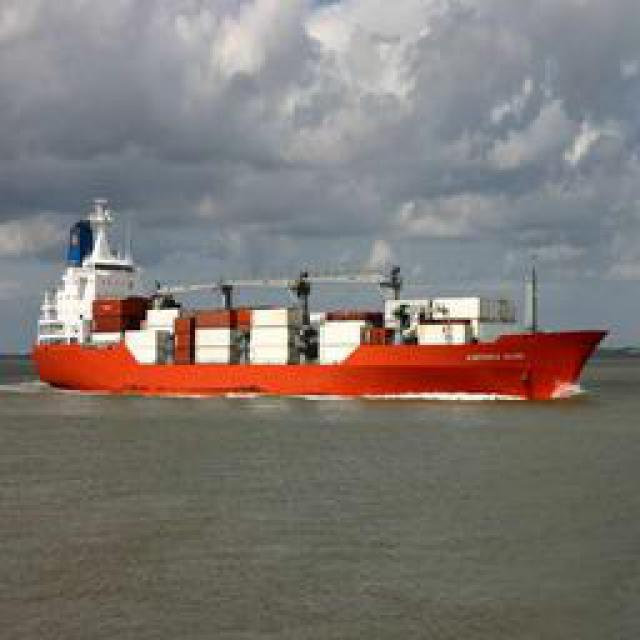Ship: (25, 275, 623, 403)
